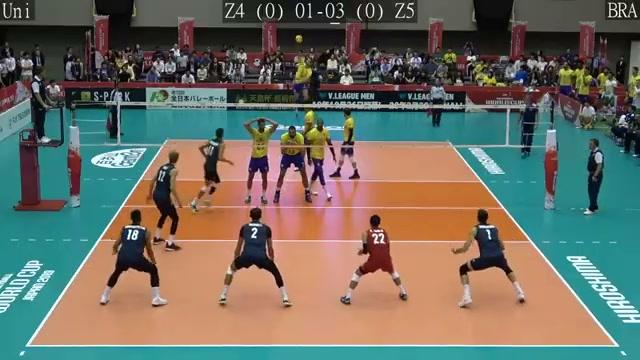ball: (294, 35, 303, 43)
